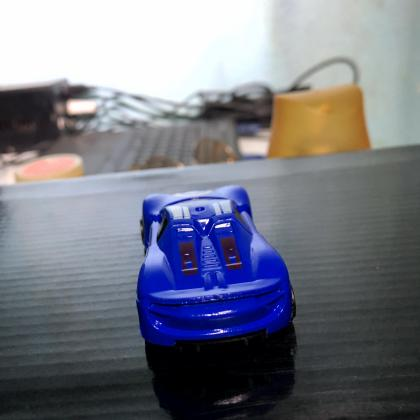Car: (136, 186, 295, 350)
